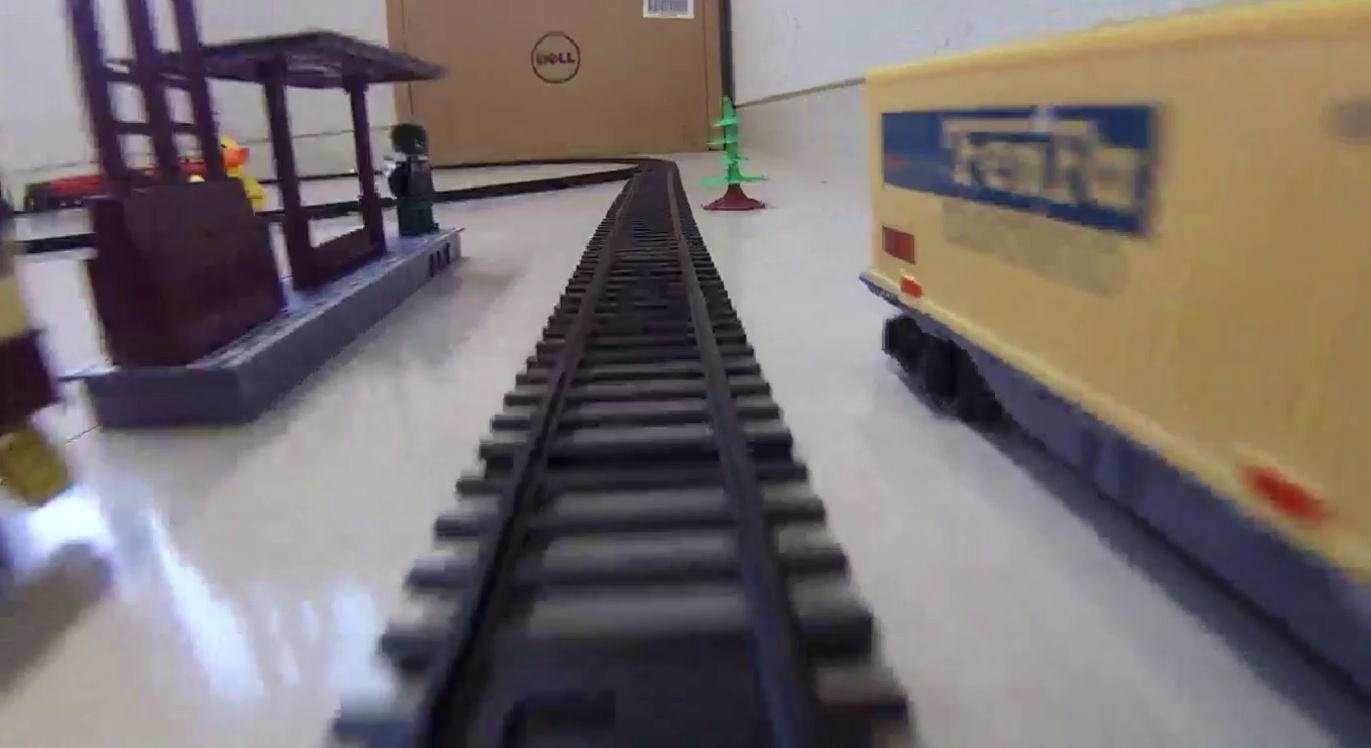people: (392, 122, 440, 237)
tree: (700, 97, 771, 212)
